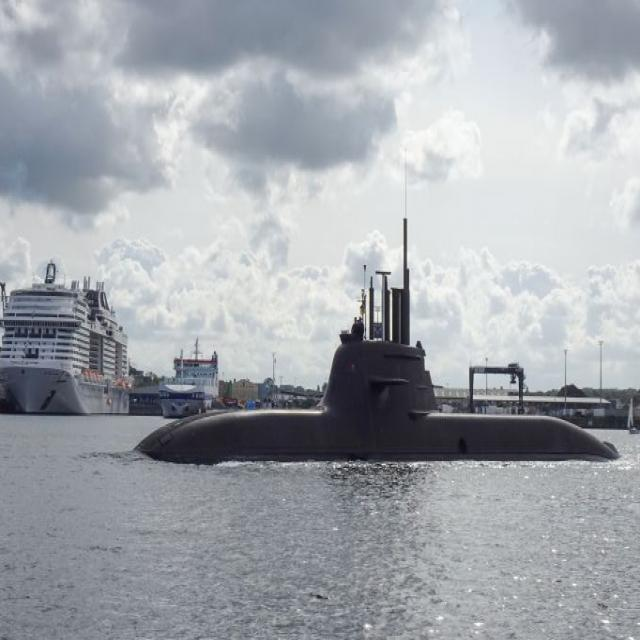submarine: (126, 207, 640, 458)
